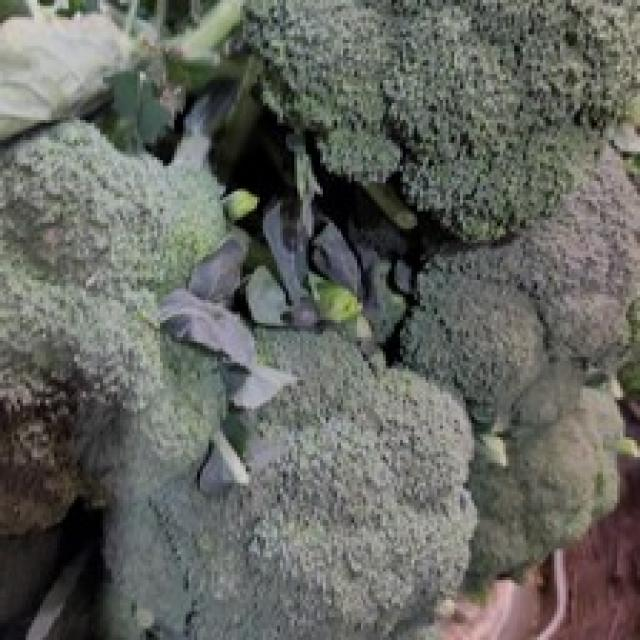Broccoli: (111, 329, 476, 640), (139, 329, 476, 640), (245, 0, 640, 241), (400, 240, 618, 588), (400, 241, 618, 588), (0, 120, 226, 434), (0, 120, 226, 434), (431, 145, 640, 371), (432, 145, 640, 369)
